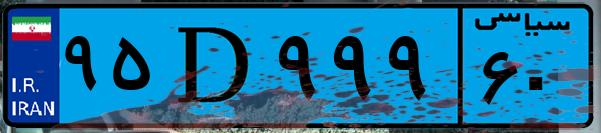0: (525, 38, 570, 115)
5: (110, 28, 158, 98)
6: (475, 38, 525, 113)
9: (270, 28, 330, 110), (385, 28, 445, 110), (330, 28, 385, 110), (57, 26, 110, 100)
D: (158, 12, 270, 120)
